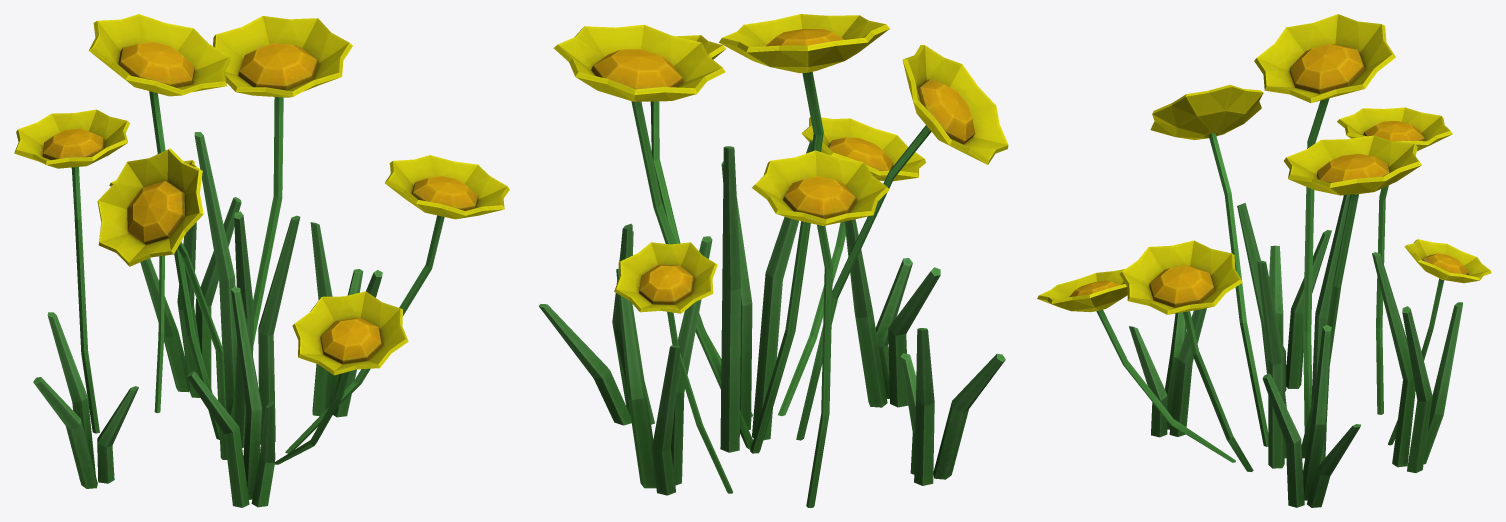
Rendered from Desert_marigold.glb.
3 renders of one model, left to right at view 1: azimuth 30°, elevation 25°; view 2: azimuth 150°, elevation 25°; view 3: azimuth 270°, elevation 25°, orthographic. The views are drawn at different scales.
Parts seen in each view (by area): view 1: DesertMarigold_mesh; view 2: DesertMarigold_mesh; view 3: DesertMarigold_mesh.
Boxes of the visible parts, left/top/right/bottom form: DesertMarigold_mesh: left=14, top=14, right=509, bottom=507; DesertMarigold_mesh: left=539, top=14, right=1008, bottom=507; DesertMarigold_mesh: left=1037, top=14, right=1491, bottom=507.
Bounding box in the file's own units: 6.62 × 6.2 × 6.55.
1 material, 1 textured.
